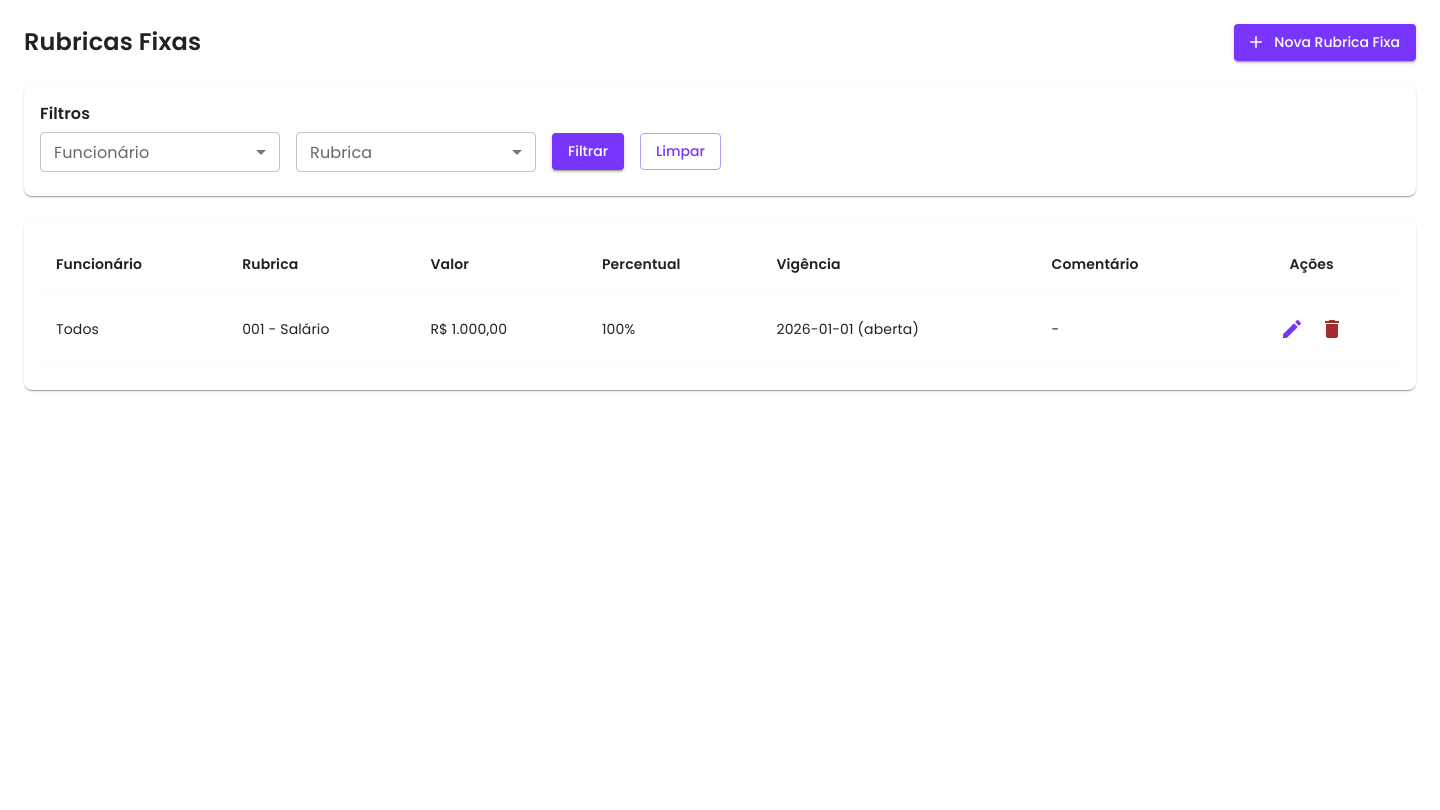
Test: RubricasFixas page › opens edit dialog with existing values
The image size is (1440, 810).
Click the button named "Editar rubrica fixa". click: (1292, 329)
box: [1272,309,1312,349]
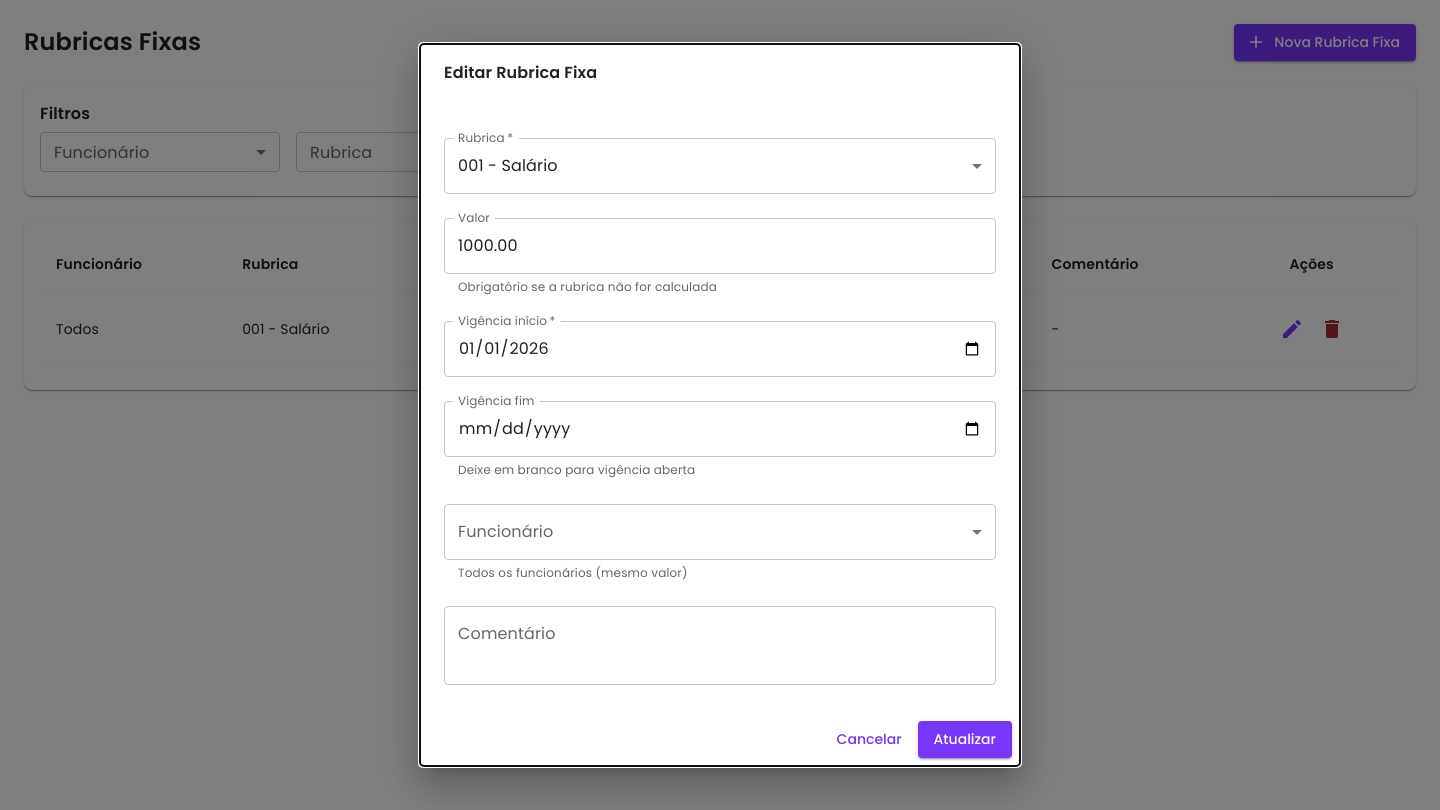
Expected: the heading "Editar Rubrica Fixa" is shown, [444,61,597,84]
